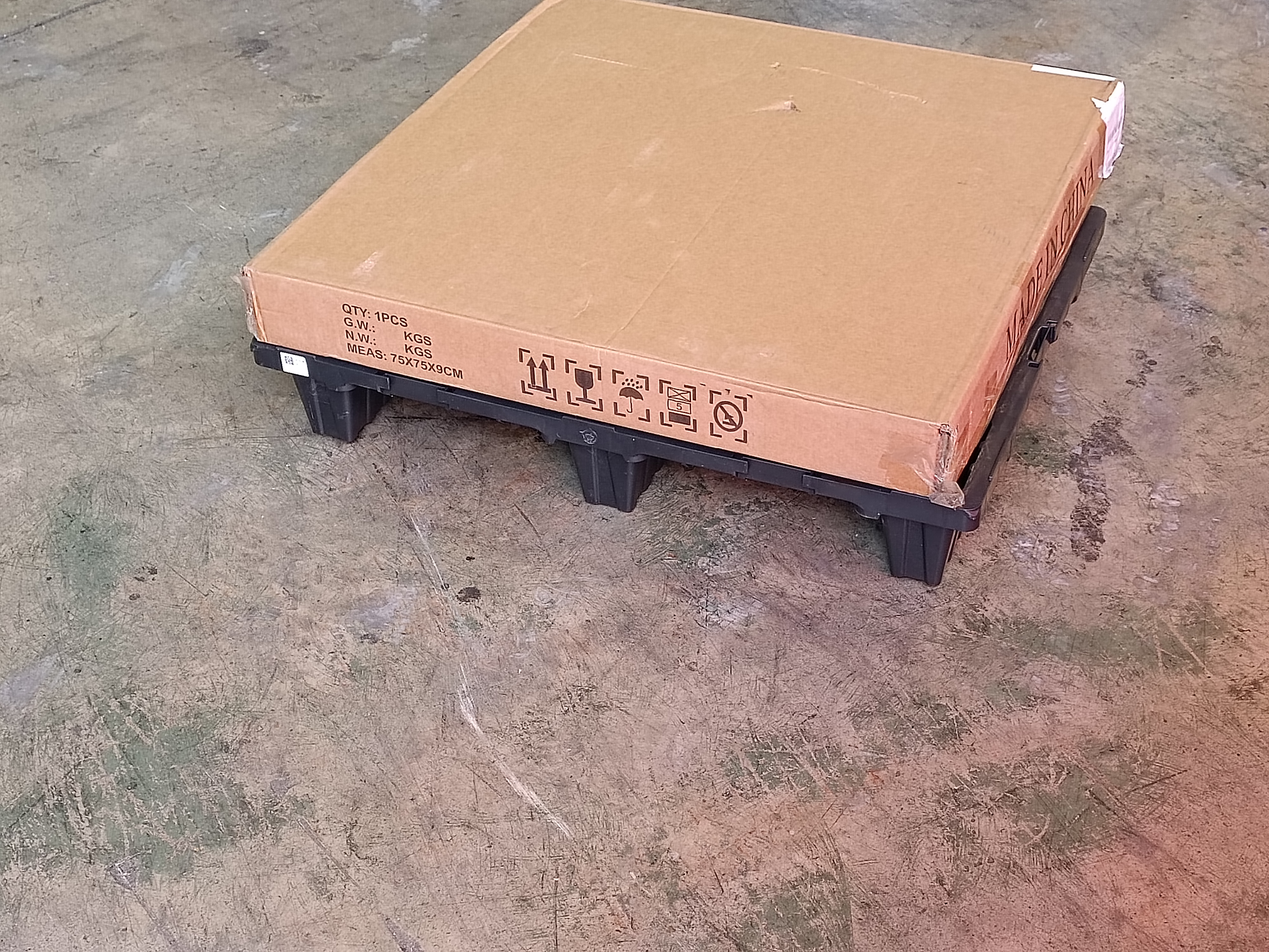block: (270, 360, 377, 450), (549, 435, 652, 520), (877, 511, 957, 585)
front: (249, 341, 981, 605)
hole pallet: (636, 448, 888, 570), (362, 388, 582, 503)
